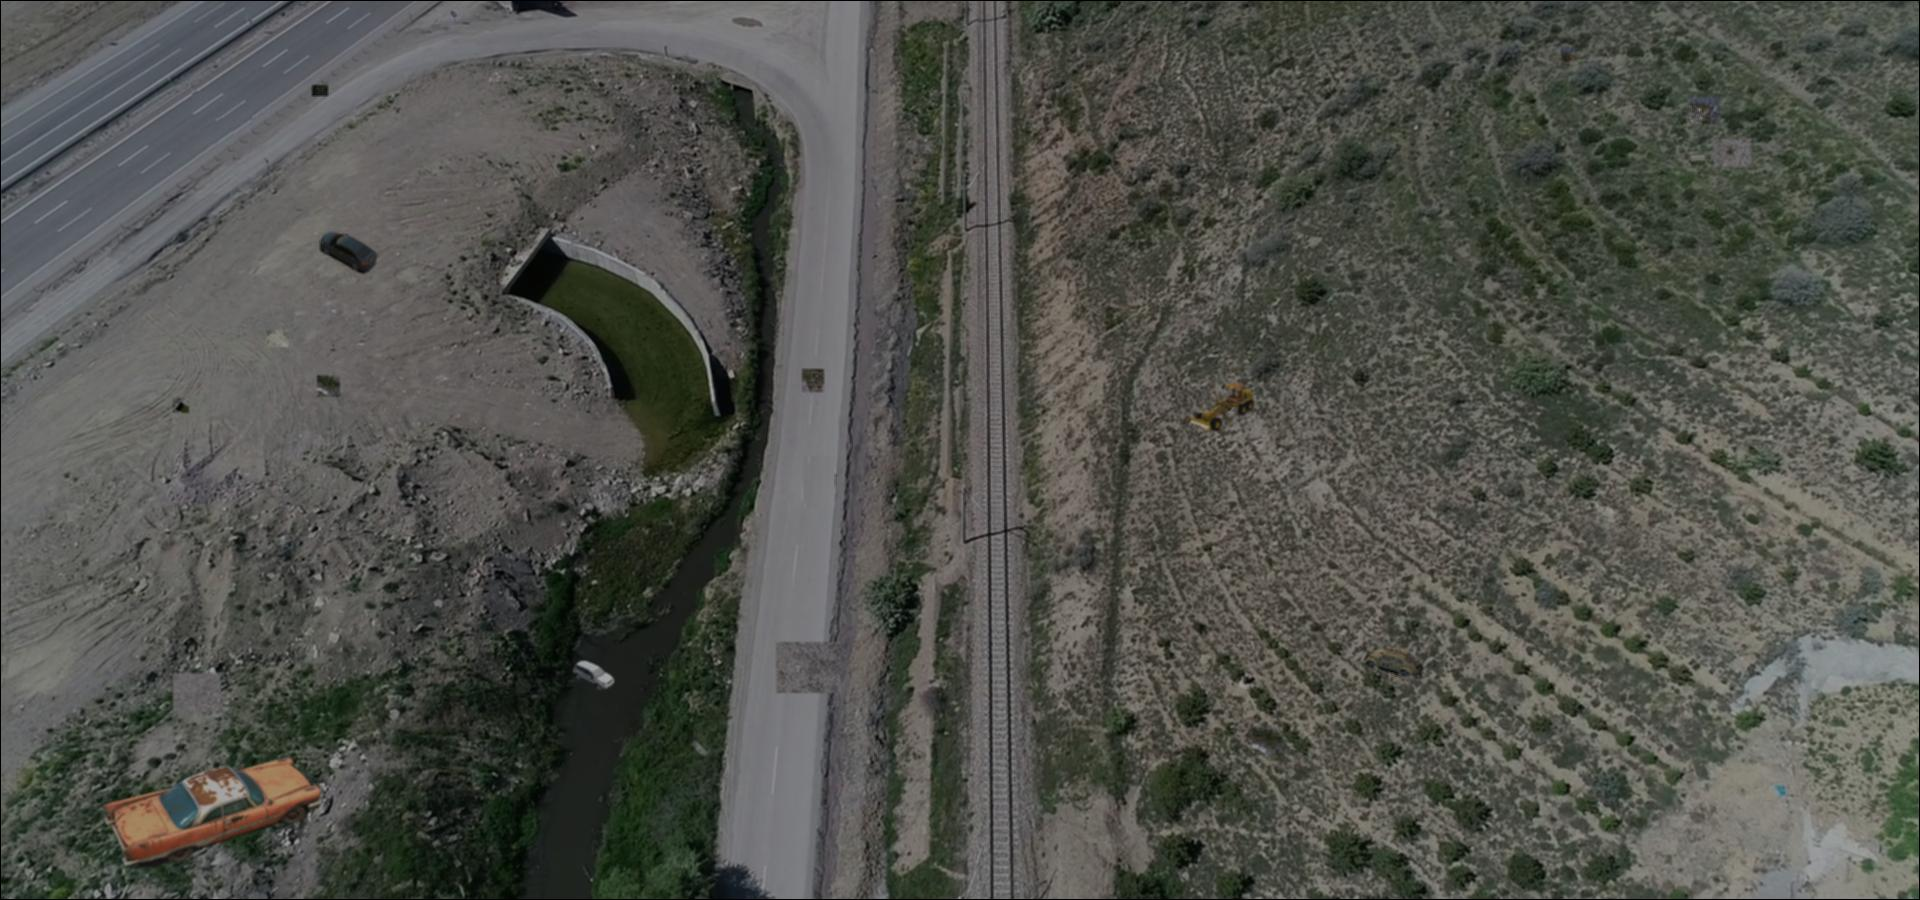arac: (91, 753, 336, 867), (1187, 380, 1260, 433), (320, 231, 378, 274), (1364, 647, 1423, 678), (572, 659, 615, 691)
